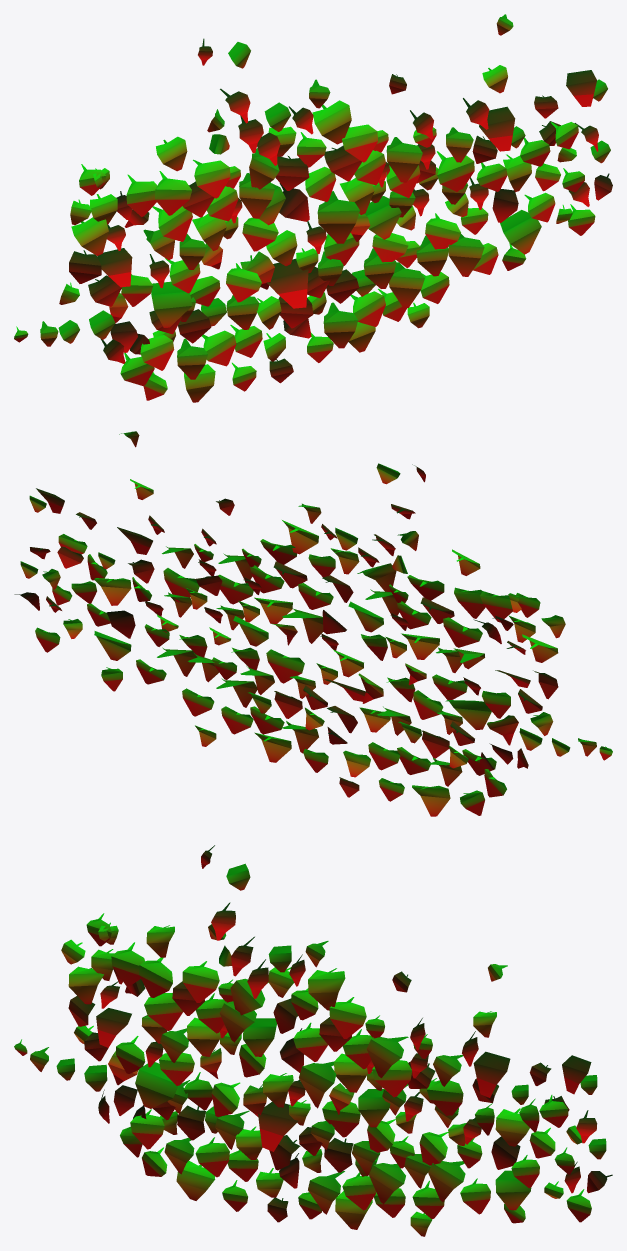
Rendered from Lierre4_LOD0.fbx.
The picture shows the model from 3 angles, top to bottom: view 1: azimuth 30°, elevation 25°; view 2: azimuth 150°, elevation 25°; view 3: azimuth 330°, elevation 25°; orthographic projection.
Visible parts, largest first — view 1: _f2fc_Var3_LOD1; view 2: _f2fc_Var3_LOD1; view 3: _f2fc_Var3_LOD1.
Part boxes in pixels (x1,y1,x2,y2): _f2fc_Var3_LOD1: (14, 14, 612, 402); _f2fc_Var3_LOD1: (14, 431, 612, 816); _f2fc_Var3_LOD1: (14, 845, 612, 1236).
Size of the model in its own units: 90.56 by 51.58 by 7.36.
